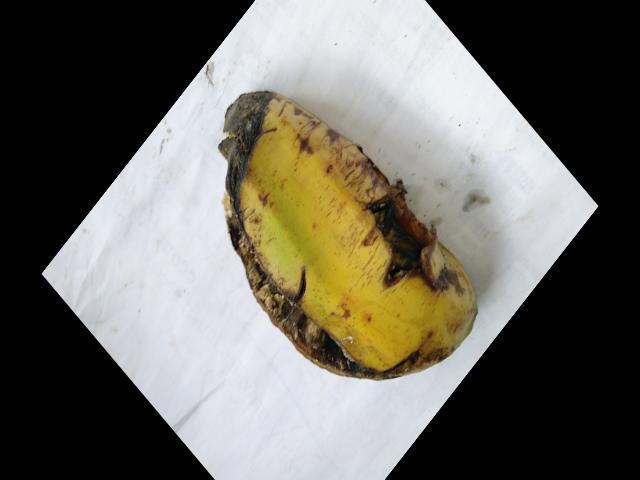rotten: (193, 70, 505, 441)
